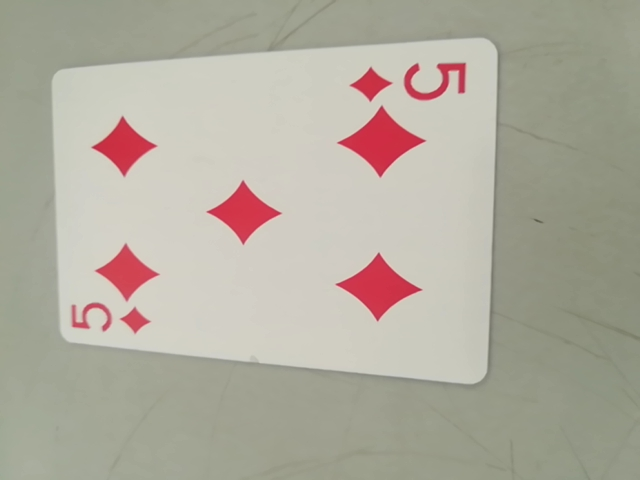fk 5: (349, 53, 470, 109), (65, 294, 152, 342)
